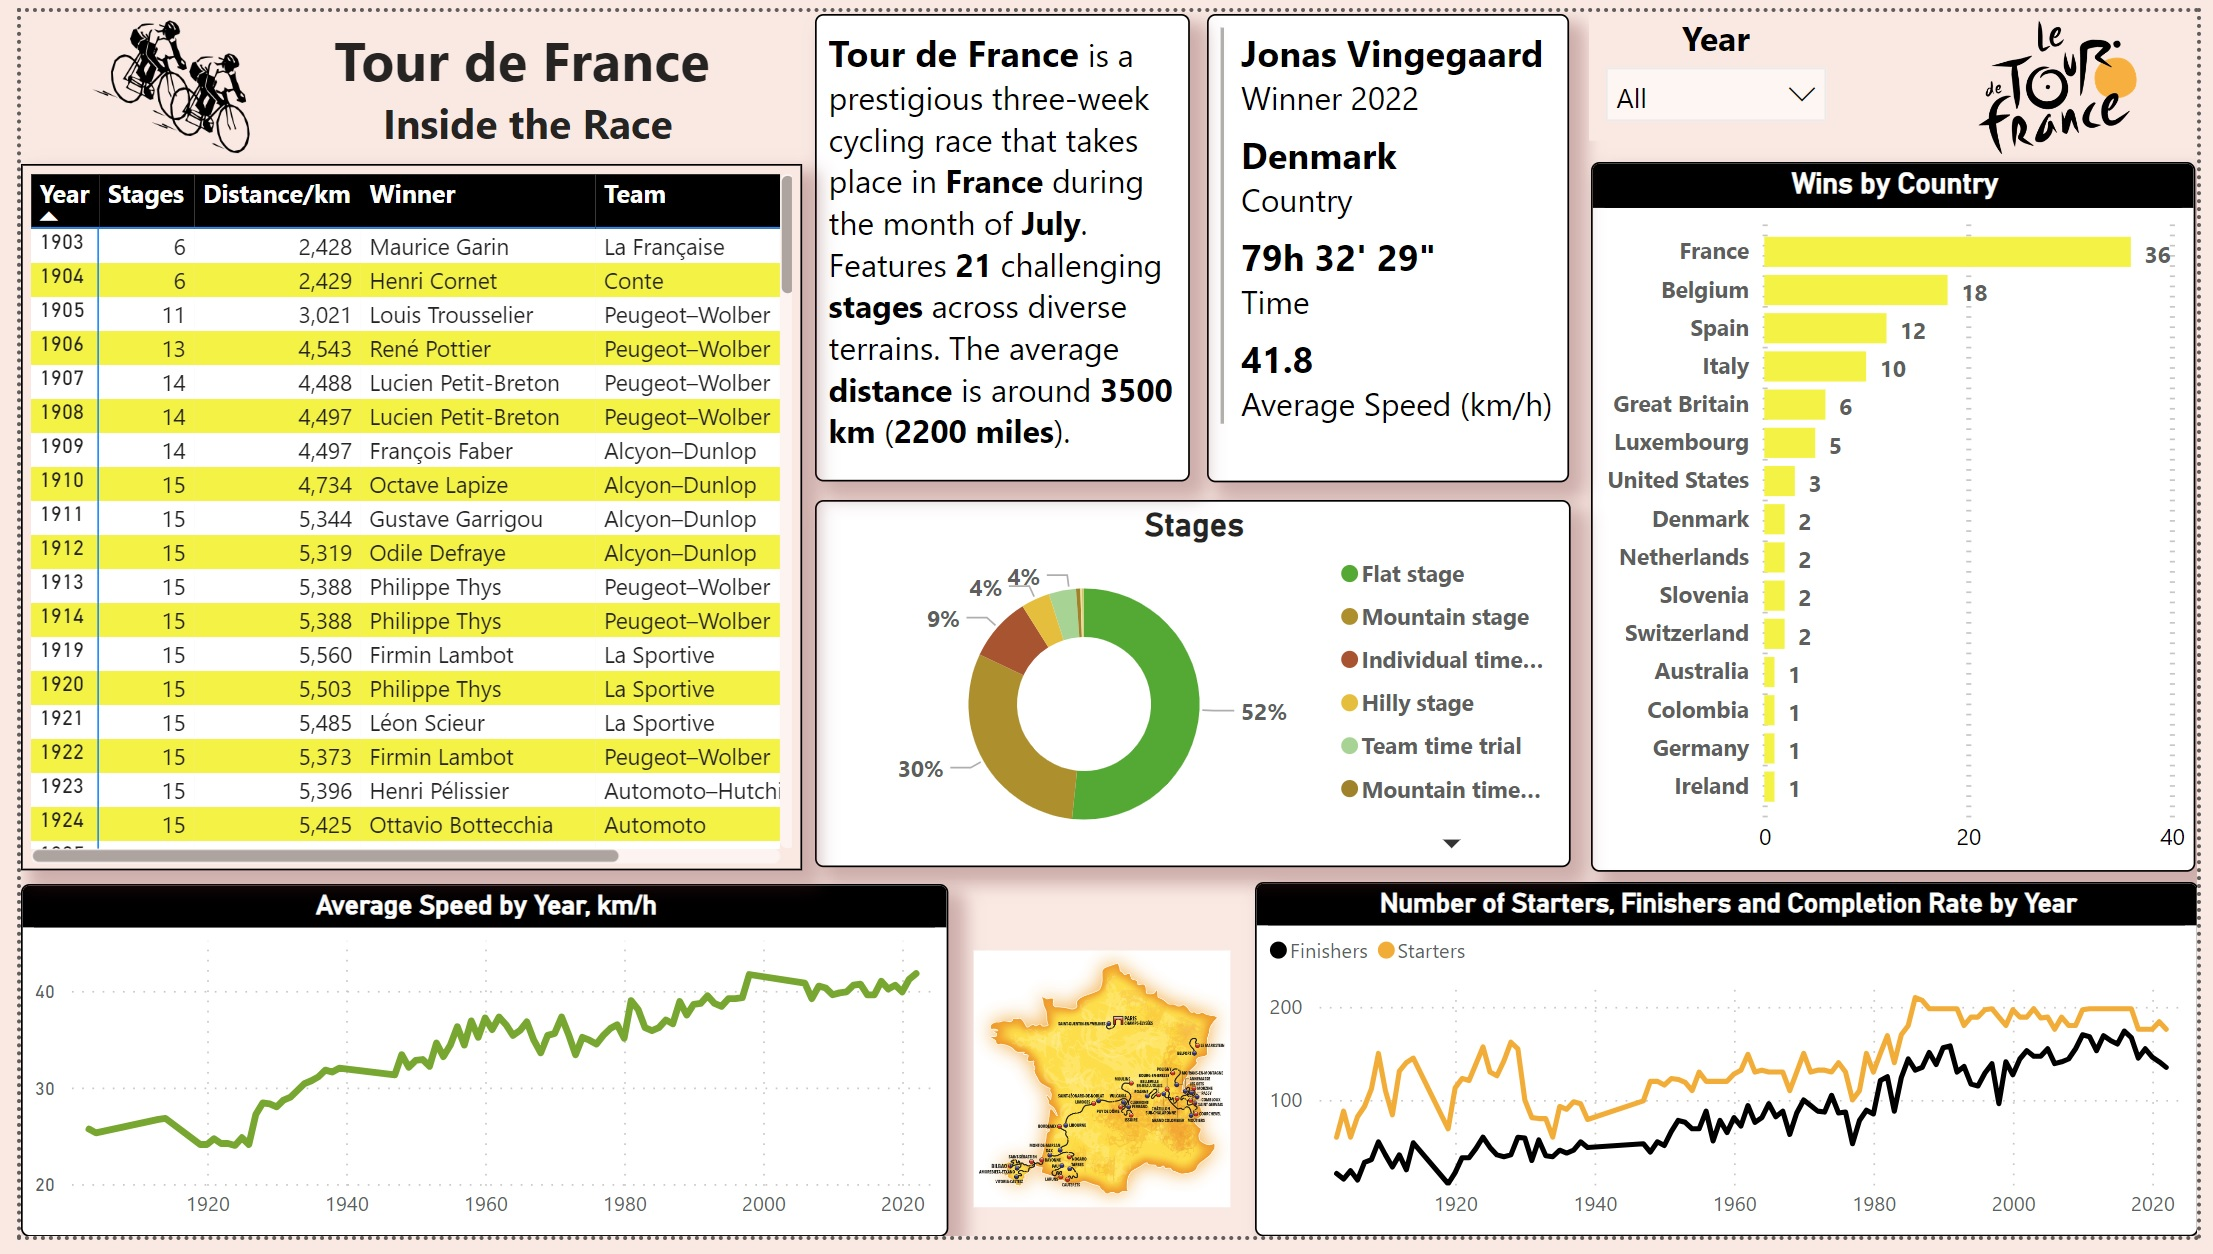

The page's visual inventory and layout, read from the dashboard file:
{"tool":"powerbi","page":{"name":"Overview","canvas":[1280,720],"ordinal":0},"visuals":[{"type":"barChart","title":"Wins by Country ","fields":{"Y":["Measures Table.Wins by Country"],"Category":["Winners.Country"]},"box":[923.5,90.6,356.5,412.9],"z":0},{"type":"lineChart","title":"Number of Starters, Finishers and Completion Rate by Year","fields":{"Y":["Sum(Tours.Finishers)","Sum(Tours.Starters)"],"Category":["Tours.Year"]},"box":[716.5,511.8,563.5,208.2],"z":1000},{"type":"multiRowCard","title":"WINNER 2022","fields":{"Values":["Min(Winners.Rider)","Winners.Country","Winners.Time Original","Sum(Winners.Avg Speed(km/h))"]},"box":[694.1,2.5,216.5,262.4],"z":2000},{"type":"donutChart","title":"Stages ","fields":{"Category":["Stages.Type"],"Y":["Measures Table.Type of Stage"]},"box":[467.4,276.4,443.8,227],"z":3000},{"type":"image","box":[544.7,520,162.4,200],"z":4000},{"type":"textbox","box":[159.5,1.3,315.2,89.9],"z":5000},{"type":"lineChart","title":"Average Speed by Year, km/h","fields":{"Y":["Sum(Winners.Avg Speed(km/h))"],"Category":["Winners.Year"]},"box":[0,511.8,538.8,208.2],"z":6000},{"type":"textbox","box":[467.1,2.4,220,262.4],"z":7000},{"type":"pivotTable","fields":{"Rows":["Winners.Year"],"Values":["Measures Table.Number of Stages","Measures Table.Distance (km)","Min(Winners.Rider)","Min(Winners.Team)"]},"box":[0,89.9,459.6,415.7],"z":8000},{"type":"slicer","title":"Year","fields":{"Values":["Tours.Year"]},"box":[924.1,1.2,145.8,86.7],"z":9000},{"type":"image","box":[0,0,179.7,88.6],"z":10000},{"type":"image","box":[1094.1,0,191.8,88.2],"z":12000}]}

Visuals, with their boxes in screenshot pixels (x1, y1, x2, y2), scaled from the page's 1280x720 canvas onto the 2213x1254 screenshot:
"Wins by Country " barChart: [x1=1597, y1=158, x2=2212, y2=877]
"Number of Starters, Finishers and Completion Rate by Year" lineChart: [x1=1239, y1=891, x2=2212, y2=1253]
"WINNER 2022" multiRowCard: [x1=1200, y1=4, x2=1574, y2=461]
"Stages " donutChart: [x1=808, y1=481, x2=1575, y2=877]
image: [x1=942, y1=906, x2=1223, y2=1253]
textbox: [x1=276, y1=2, x2=821, y2=159]
"Average Speed by Year, km/h" lineChart: [x1=0, y1=891, x2=932, y2=1253]
textbox: [x1=808, y1=4, x2=1188, y2=461]
pivotTable - Winners.Year x Measures Table.Number of Stages: [x1=0, y1=157, x2=795, y2=881]
"Year" slicer: [x1=1598, y1=2, x2=1850, y2=153]
image: [x1=0, y1=0, x2=311, y2=154]
image: [x1=1892, y1=0, x2=2212, y2=154]
